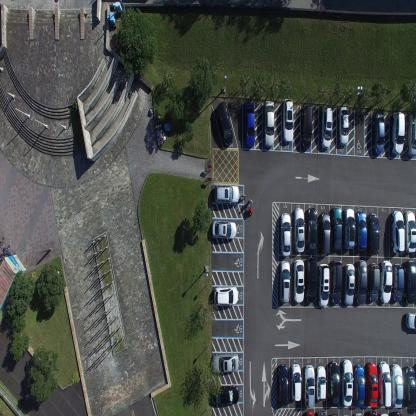car: (216, 100, 234, 146), (340, 359, 354, 408), (378, 360, 392, 408), (210, 384, 240, 406), (211, 352, 240, 374), (306, 206, 319, 255), (391, 110, 405, 155), (391, 209, 405, 254), (379, 259, 393, 304), (300, 103, 313, 150), (355, 260, 368, 306), (365, 362, 378, 408), (390, 363, 403, 409), (263, 98, 275, 147), (318, 212, 331, 256), (327, 361, 340, 405), (292, 207, 304, 253), (282, 97, 294, 143), (330, 258, 342, 304), (320, 106, 333, 148), (403, 366, 416, 407), (276, 363, 288, 407), (353, 364, 365, 408), (211, 219, 236, 240), (213, 184, 239, 204), (306, 256, 317, 303), (280, 211, 291, 257), (294, 258, 305, 304), (332, 207, 343, 253), (368, 212, 380, 254), (373, 112, 385, 154), (279, 259, 290, 304), (318, 262, 329, 307), (368, 262, 380, 302), (214, 285, 238, 305), (392, 262, 404, 302), (344, 263, 355, 306), (344, 208, 355, 250), (356, 210, 367, 252), (245, 100, 255, 146), (290, 364, 302, 401), (304, 364, 314, 408), (406, 112, 416, 156), (405, 261, 415, 304), (405, 210, 415, 253), (339, 106, 349, 146), (316, 366, 326, 402), (406, 310, 416, 330), (316, 408, 328, 416), (367, 408, 378, 416), (304, 410, 315, 416), (391, 410, 401, 416), (353, 410, 363, 415), (380, 411, 390, 415)
